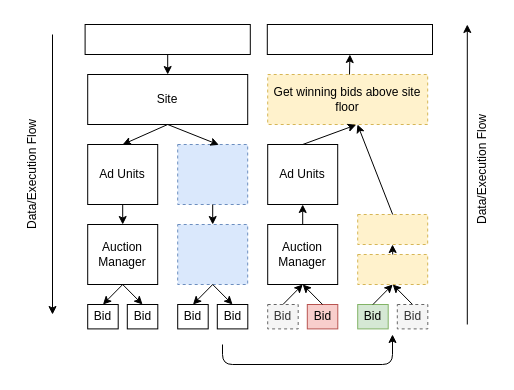
This 514x390 diagram has some shape labels left out. Each missing label, with the centre of its shape:
Add ad units: point (212, 174)
Adjust bid values: point (392, 269)
Auction Input: point (167, 39)
Auction Output: point (349, 39)
Get top bid: point (392, 229)
Store bids: point (212, 254)
